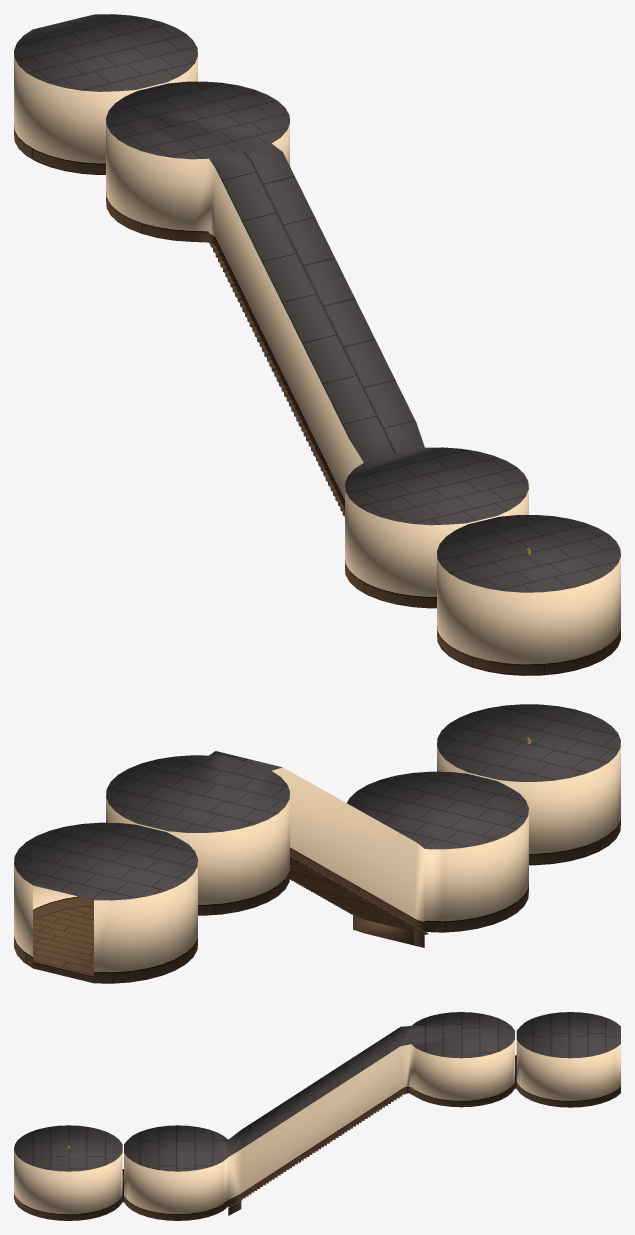
The model's file is Rooms.fbx.
The picture shows the model from 3 angles, top to bottom: view 1: azimuth 30°, elevation 25°; view 2: azimuth 150°, elevation 25°; view 3: azimuth 270°, elevation 25°; orthographic projection. The views are drawn at different scales.
Visible parts, largest first — view 1: Rooms; view 2: Rooms; view 3: Rooms.
Part boxes in pixels (x1,y1,x2,y2): Rooms: [14, 14, 620, 675]; Rooms: [14, 704, 620, 983]; Rooms: [14, 1012, 620, 1220].
Bounding box in the file's own units: 4860 × 8443 × 26957.
Materials: 6 (6 with a texture image).
